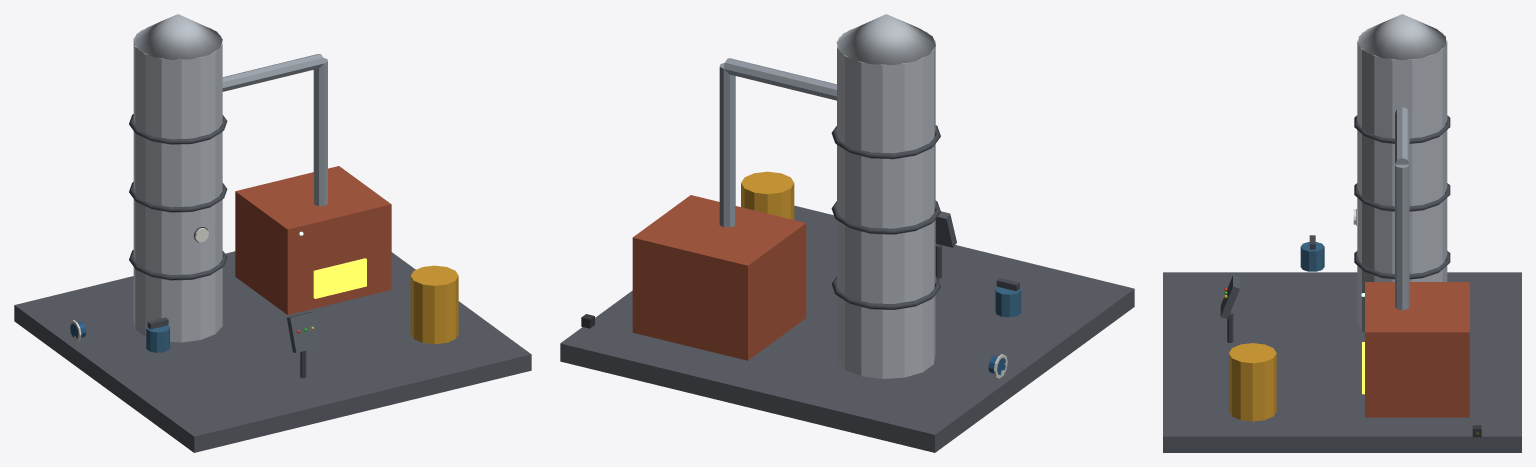
The model's file is Refinery@Run.fbx.
3 views of the same model, side by side, from view 1: azimuth 30°, elevation 25°; view 2: azimuth 150°, elevation 25°; view 3: azimuth 270°, elevation 25° (orthographic). The views are drawn at different scales.
Parts seen in each view (by area): view 1: Refinery_Body, Refinery_PumpWheel; view 2: Refinery_Body, Refinery_PumpWheel; view 3: Refinery_Body, Refinery_PumpWheel.
Part boxes in pixels (x1,y1,x2,y2): Refinery_Body: (14, 14, 531, 452); Refinery_PumpWheel: (146, 317, 169, 352); Refinery_Body: (560, 14, 1134, 452); Refinery_PumpWheel: (995, 278, 1021, 317); Refinery_Body: (1163, 14, 1521, 452); Refinery_PumpWheel: (1300, 235, 1324, 271).
Size of the model in its own units: 2.61 by 2.4 by 2.4.
